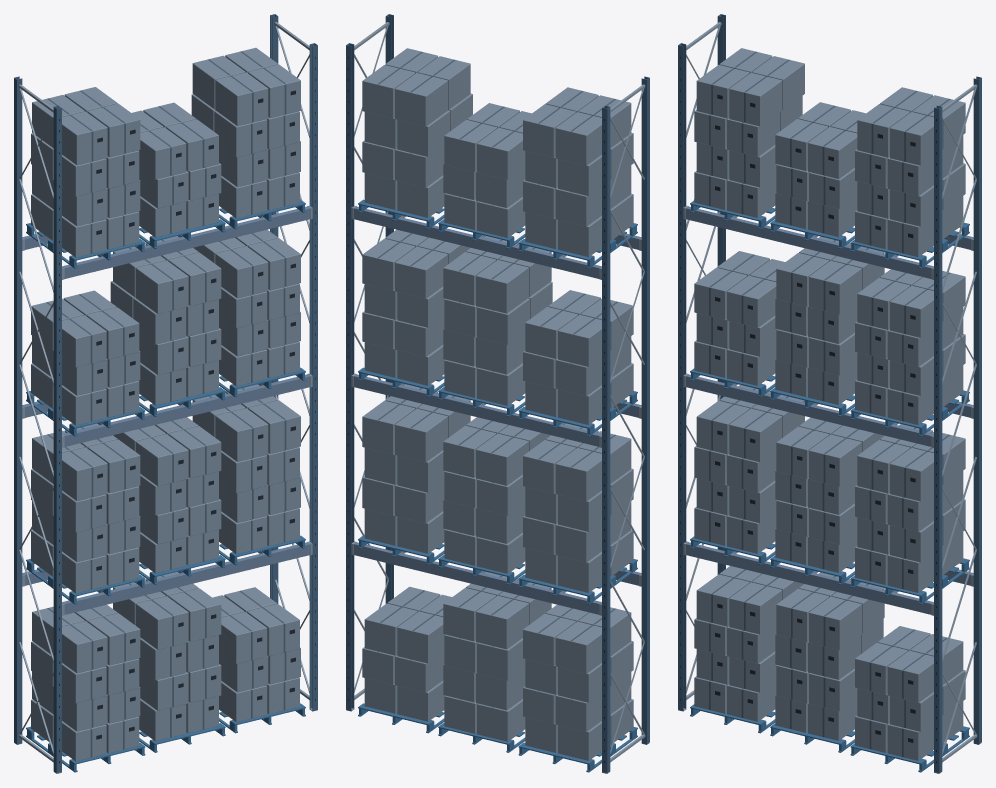
The model's file is SM_GHS_V2Rack_A_W37619.fbx.
3 renders of one model, left to right at view 1: azimuth 30°, elevation 25°; view 2: azimuth 150°, elevation 25°; view 3: azimuth 330°, elevation 25°, orthographic.
Parts seen in each view (by area): view 1: SM_GHS_V2Rack_A_W37619; view 2: SM_GHS_V2Rack_A_W37619; view 3: SM_GHS_V2Rack_A_W37619.
Part boxes in pixels (x1=…): SM_GHS_V2Rack_A_W37619: x1=14, y1=14, x2=317, y2=773; SM_GHS_V2Rack_A_W37619: x1=346, y1=14, x2=649, y2=773; SM_GHS_V2Rack_A_W37619: x1=678, y1=14, x2=981, y2=773.
Bounding box in the file's own units: 376 × 122 × 915.
